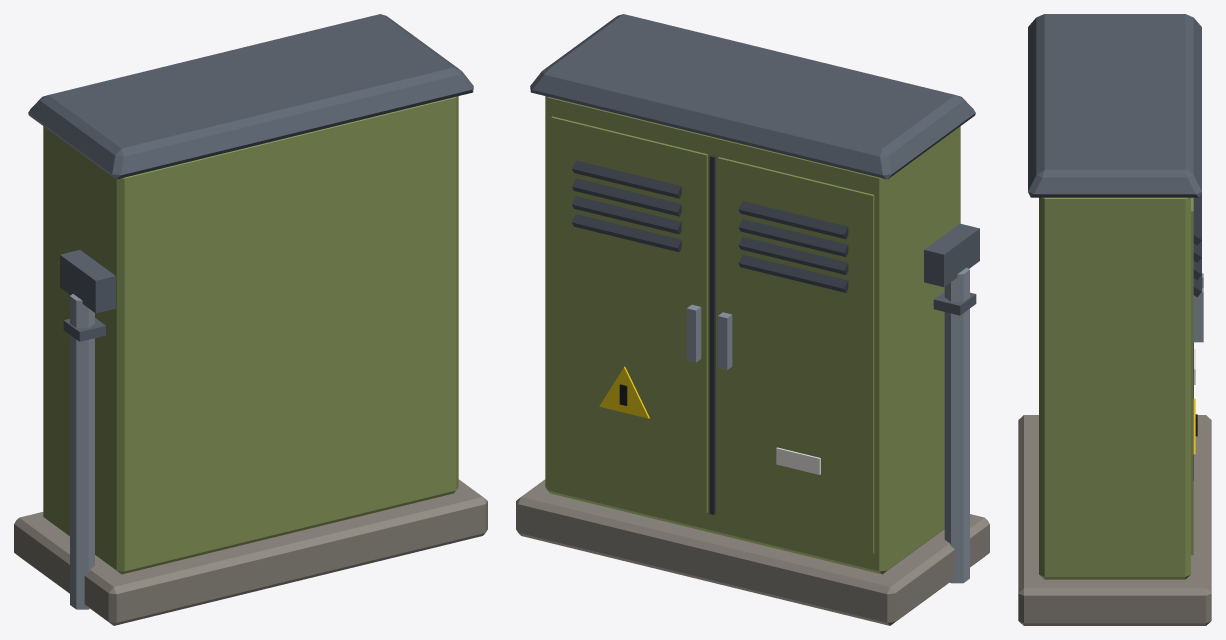
The model's file is utility_box.glb.
3 views of the same model, side by side, from view 1: azimuth 30°, elevation 25°; view 2: azimuth 150°, elevation 25°; view 3: azimuth 270°, elevation 25° (orthographic). The views are drawn at different scales.
Parts seen in each view (by area): view 1: utility_box; view 2: utility_box; view 3: utility_box.
Boxes of the visible parts, left/top/right/bottom form: utility_box: left=14, top=14, right=487, bottom=625; utility_box: left=516, top=14, right=989, bottom=625; utility_box: left=1018, top=14, right=1211, bottom=625.
Size of the model in its own units: 1.25 by 1.43 by 0.56.
